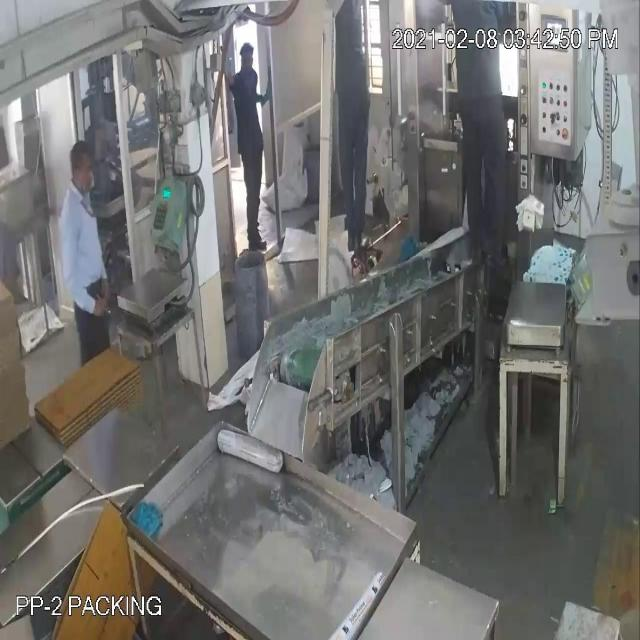No_Gloves: (56, 226, 110, 316)
